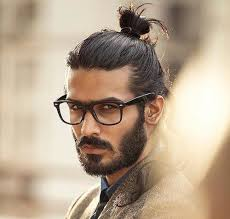b.y: (79, 135, 110, 175)
